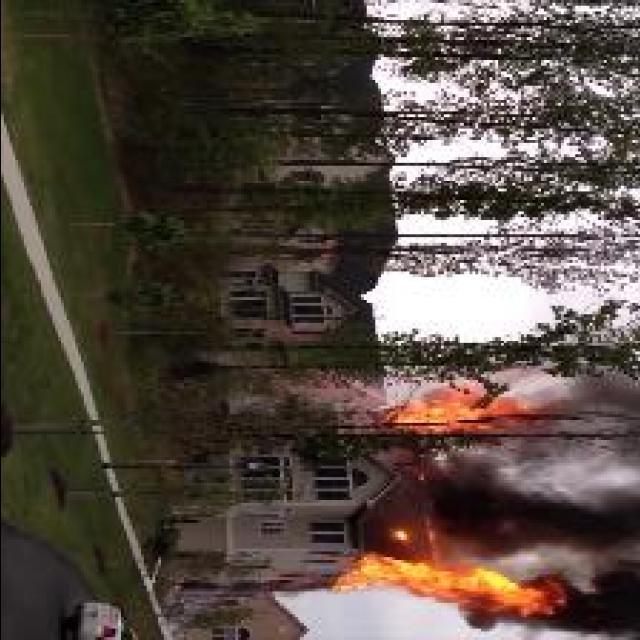Fire: (328, 554, 566, 617), (392, 382, 568, 438)
